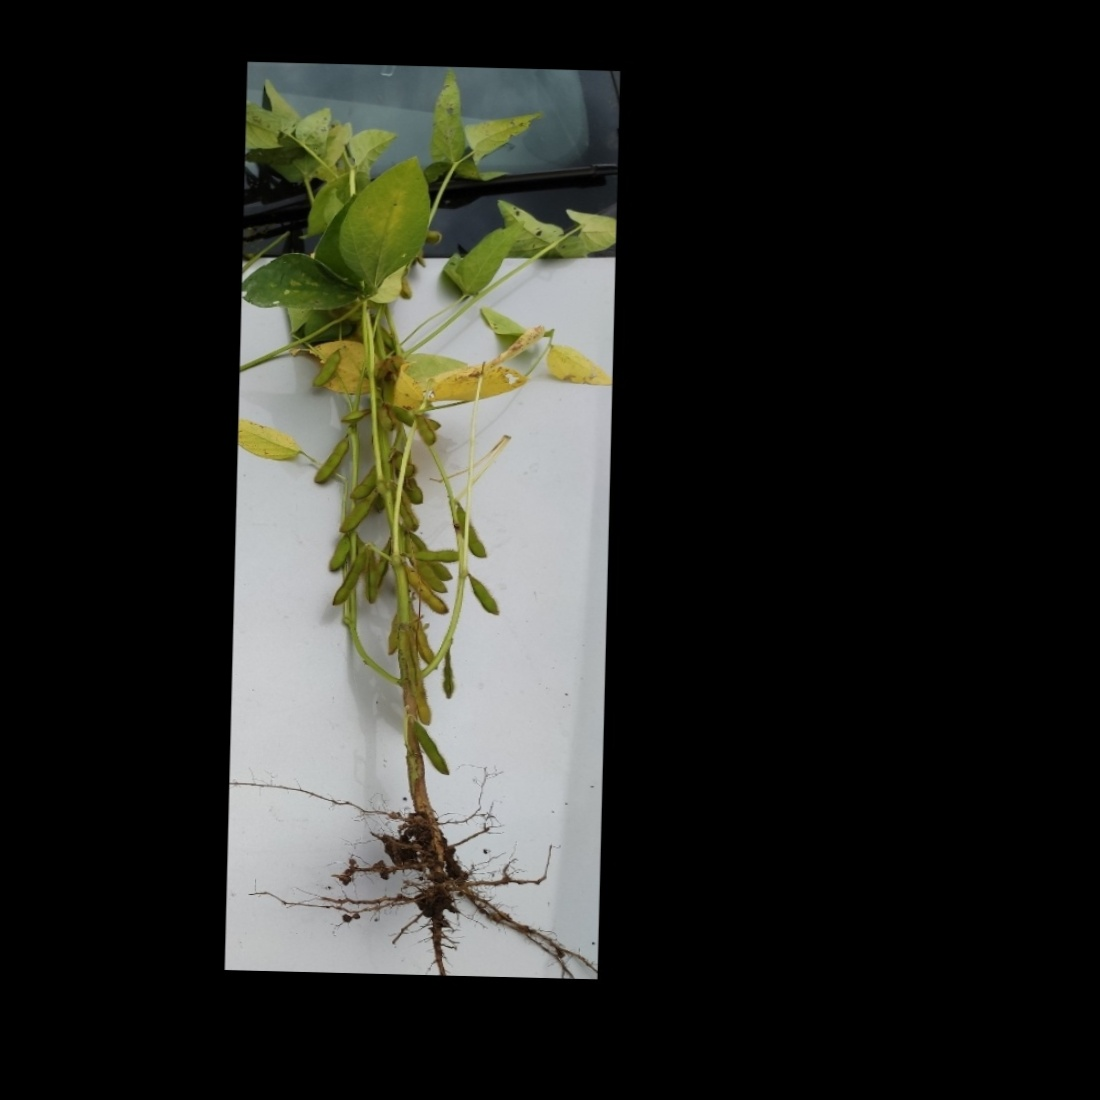pod: (330, 548, 369, 610), (405, 567, 451, 616), (413, 721, 452, 778), (455, 506, 490, 562), (462, 570, 502, 618), (335, 494, 377, 538), (315, 436, 349, 486), (307, 346, 343, 389), (326, 533, 349, 575)
soy: (260, 89, 562, 935)
